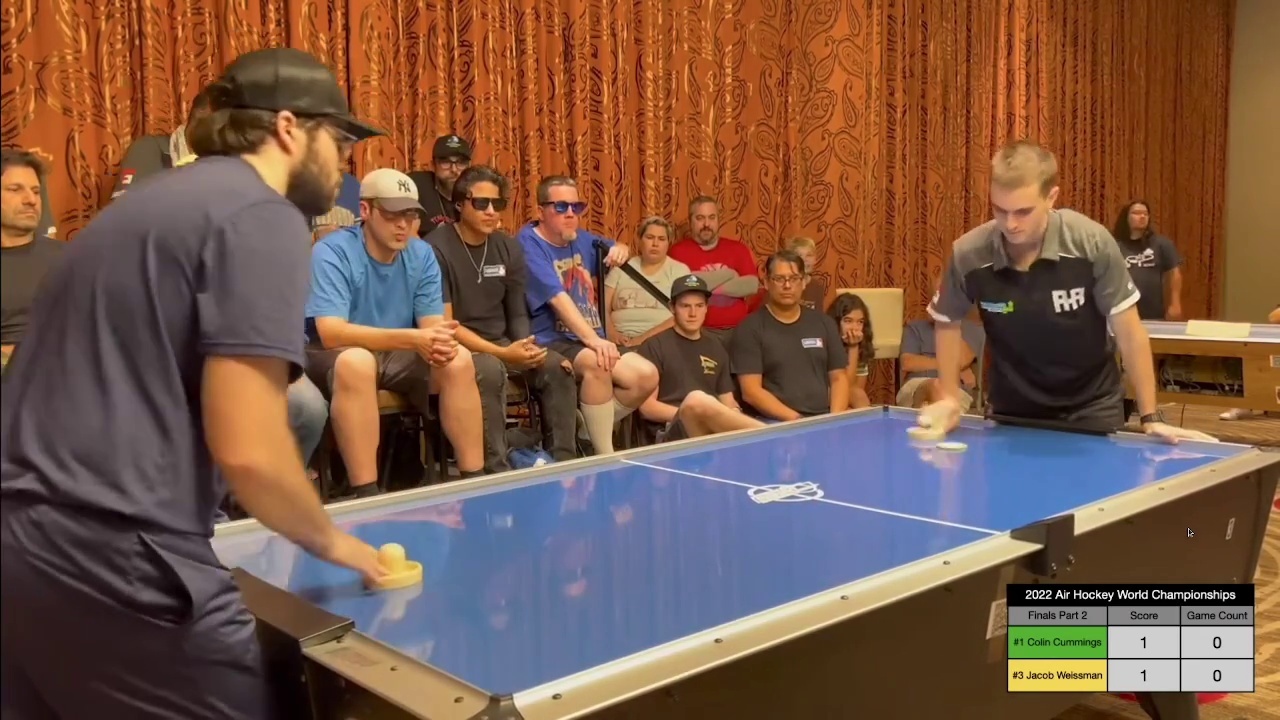player: (367, 540, 428, 595), (907, 412, 952, 440)
puck: (933, 438, 967, 452)
table: (139, 402, 1274, 693)
